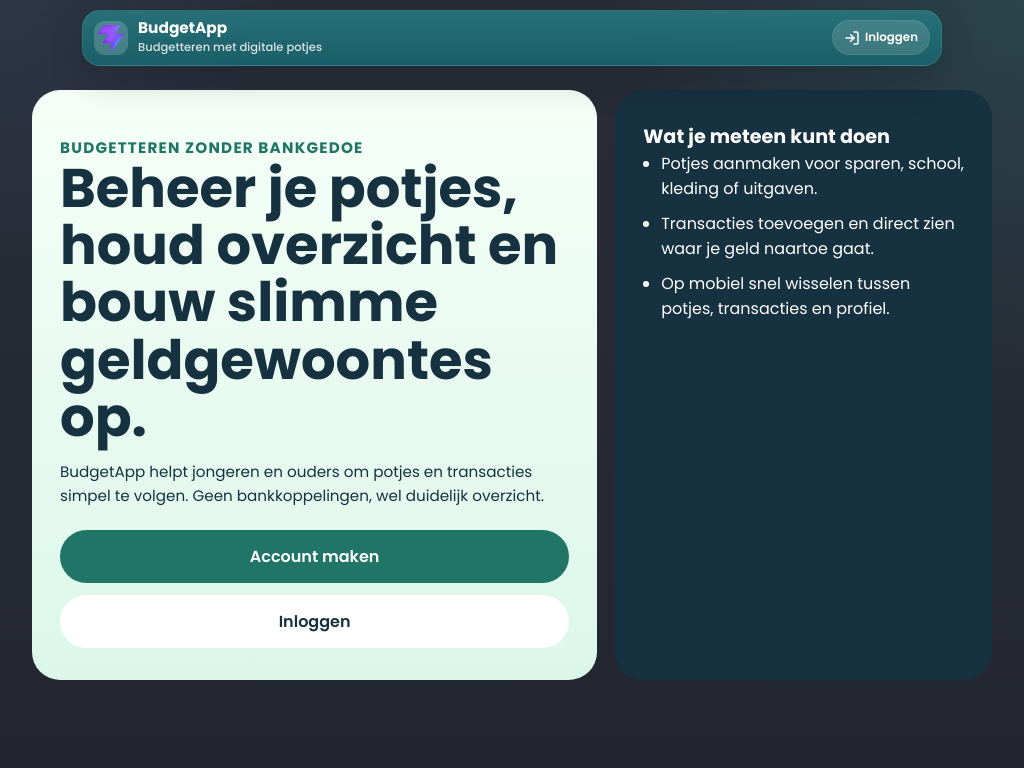
Test: Login Fail › Log in
Click the link with class "Header-profileBtn".
click(881, 38)  # box [832,20,930,55]
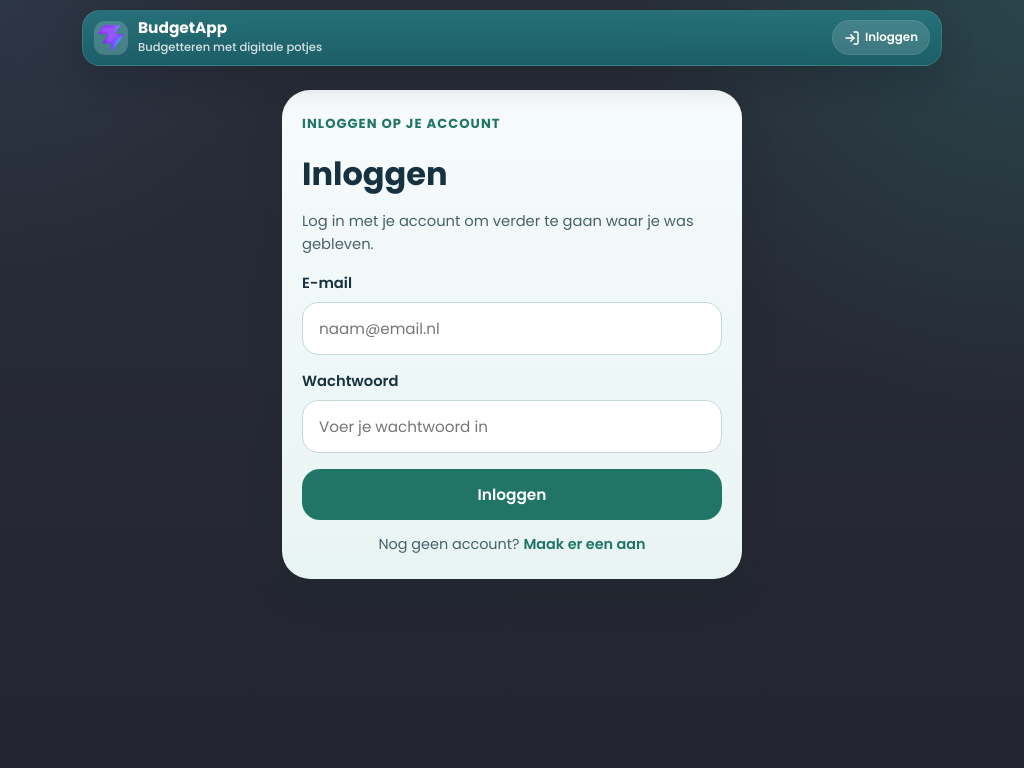
Type "fout@gmail.com" into the field named "email".
click(512, 329); type("fout@gmail.com")  # box [302,302,722,355]
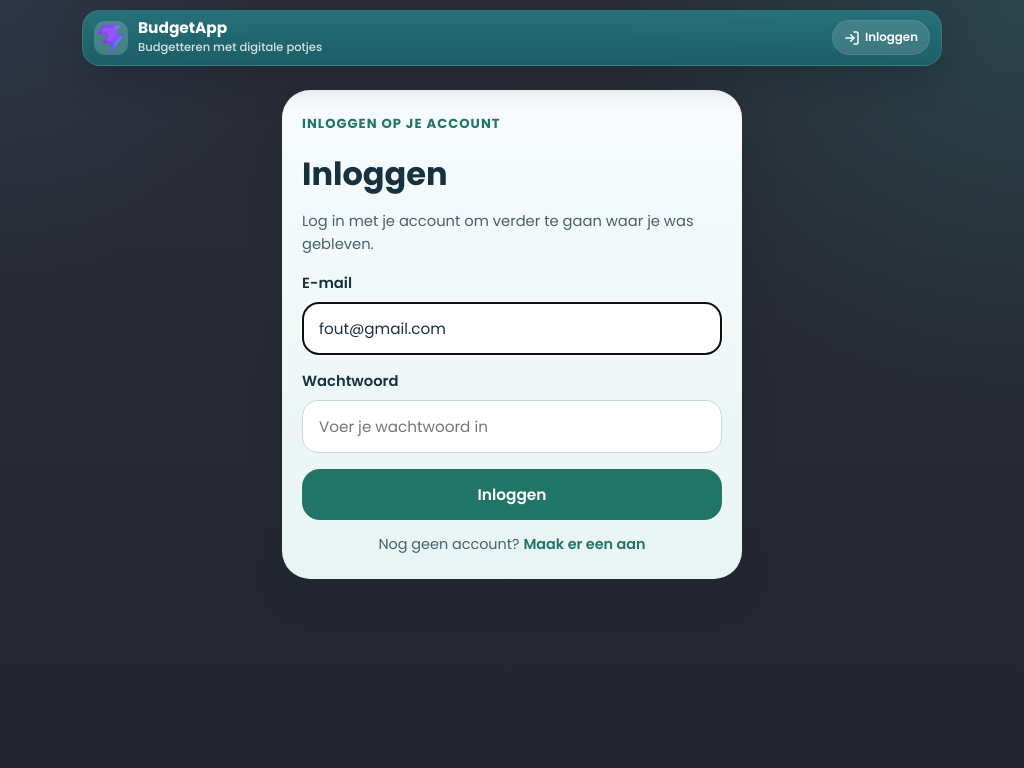
Type "fout" into the field named "REDACTED_PASSWORD".
click(512, 427); type("fout")  # box [302,400,722,453]
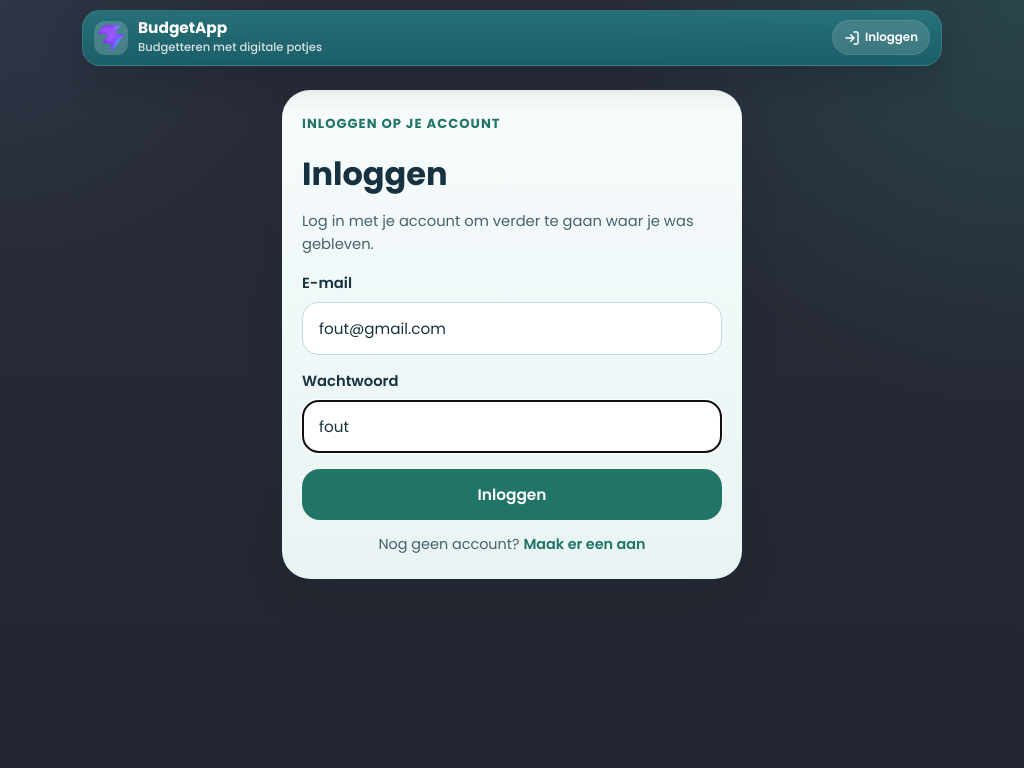
Result: the button with class "AuthButton" is shown
Click the button with class "AuthButton".
click(512, 495)  # box [302,469,722,520]
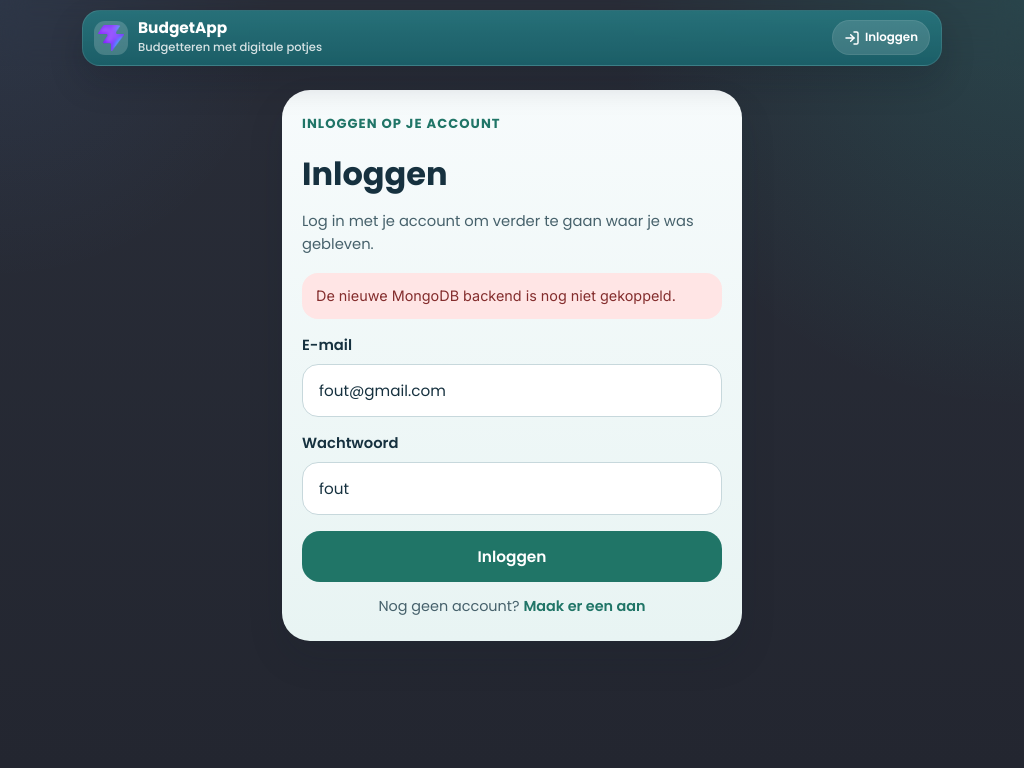
Result: the text "De nieuwe MongoDB backend is nog niet gekoppeld." is shown at [302,273,722,319]
